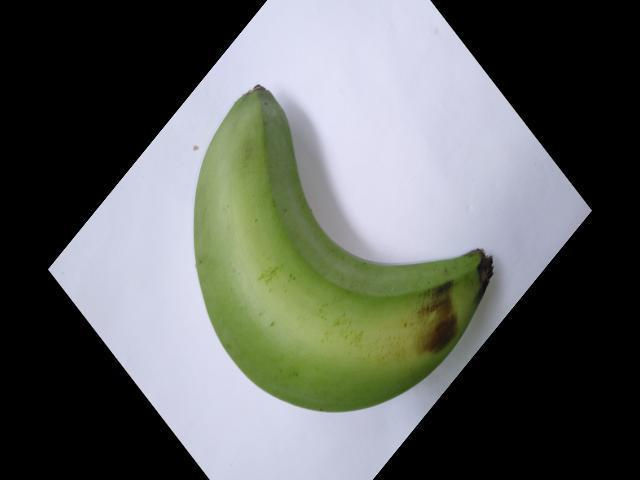freshunripe: (188, 71, 513, 426)
